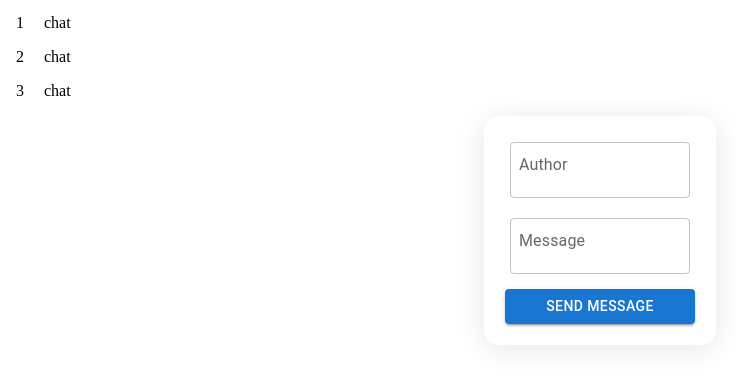
Test: App › check render message to chat container
This screenshot has width=736, height=379.
Type "Hello from test comp!" into the field with placeholder "Hello" at [600, 246], box 510,218 -> 690,274
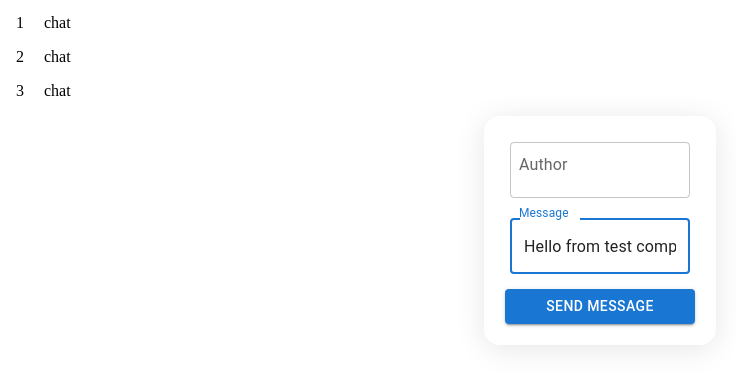
Type "I am Test!" into the field with placeholder "Ivan" at [600, 170], box 510,142 -> 690,198
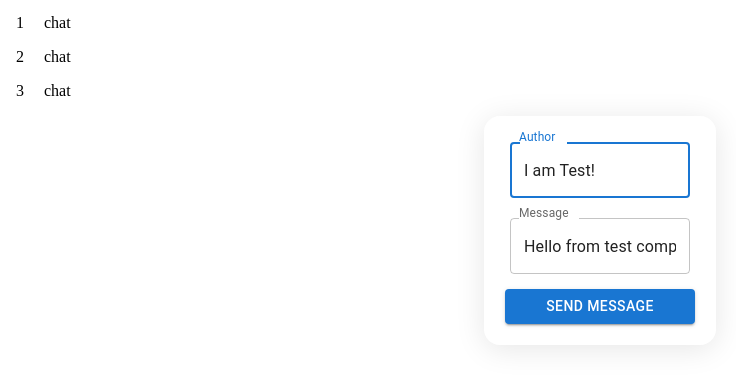
Click the button "Send message" at [600, 306], box 505,289 -> 695,324
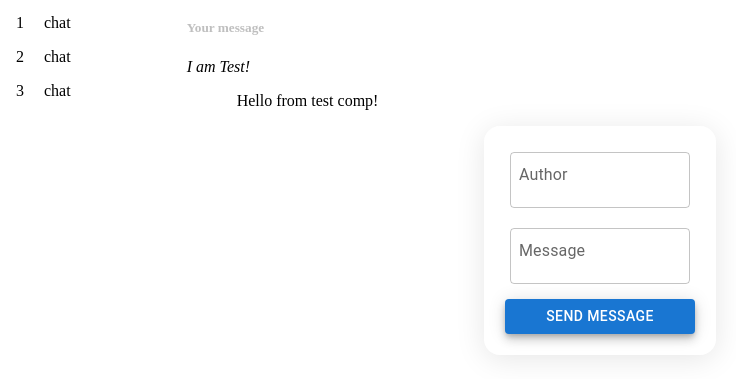
Result: the text with test id "chat-messageText" reads "Hello from test comp!" at 237,92 -> 378,109
